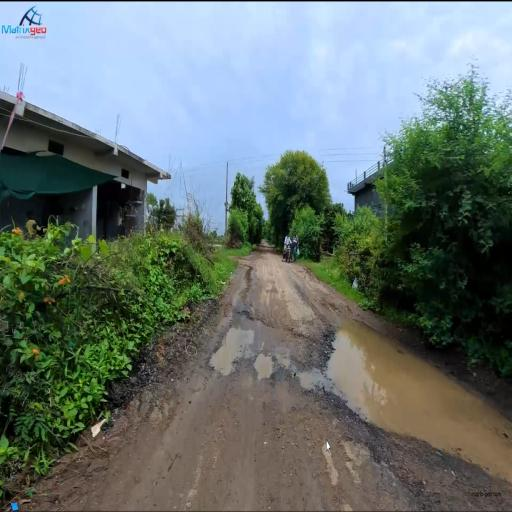pothole: (356, 395, 432, 479), (235, 304, 307, 392), (312, 309, 332, 440)
